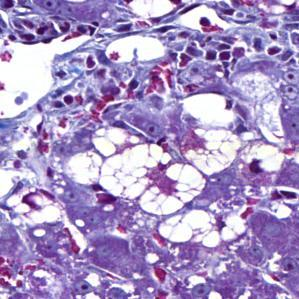ballooning: (64, 123, 172, 204), (137, 157, 206, 220), (158, 207, 249, 253)
